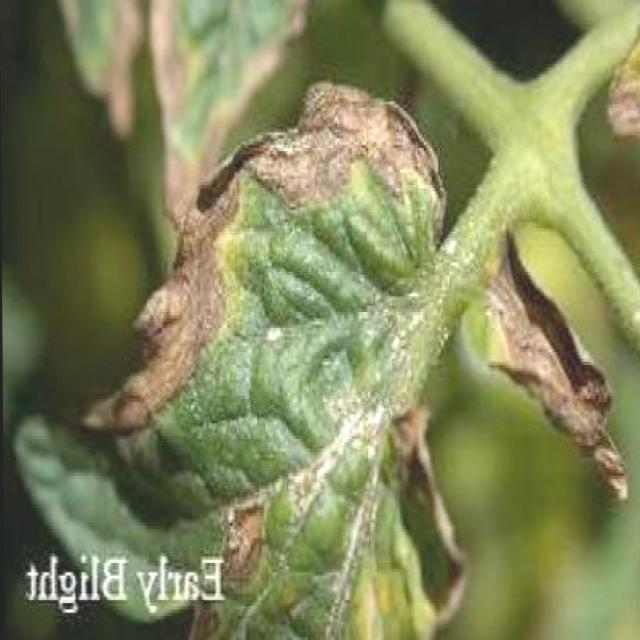Tomato Early blight leaf: (60, 91, 444, 638)
